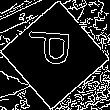P_E: (29, 35, 81, 75)
